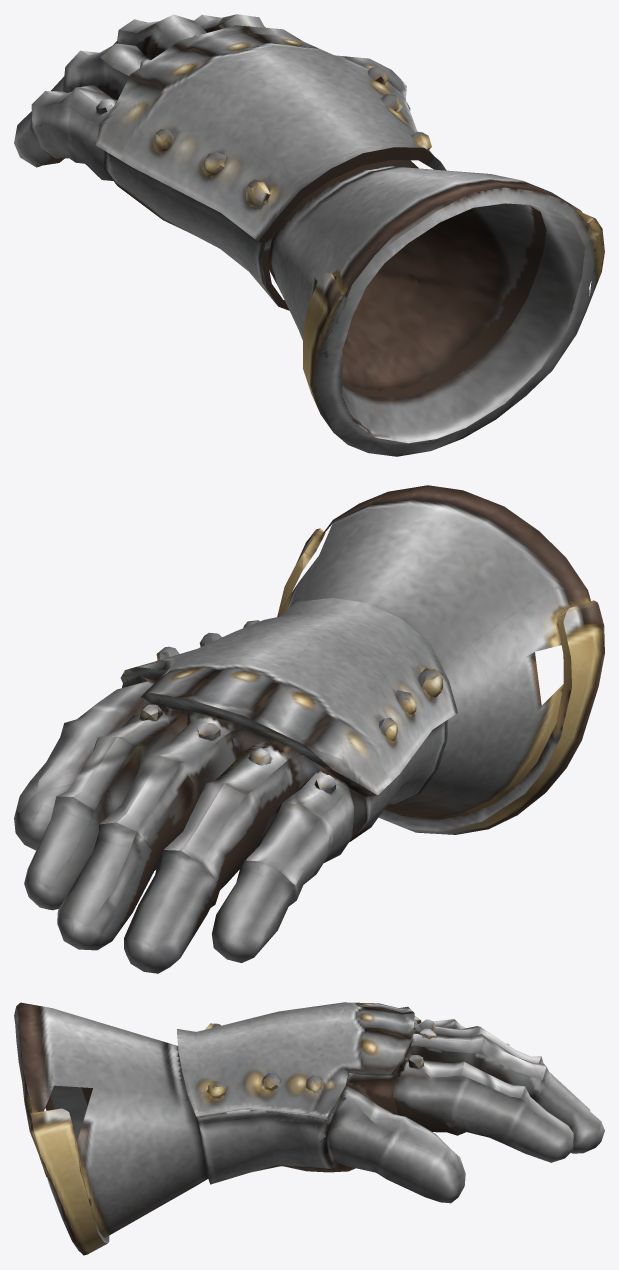
The model's file is item_mm9_10138.glb.
The picture shows the model from 3 angles, top to bottom: view 1: azimuth 30°, elevation 25°; view 2: azimuth 150°, elevation 25°; view 3: azimuth 270°, elevation 25°; orthographic projection. The views are drawn at different scales.
Visible parts, largest first — view 1: d10138; view 2: d10138; view 3: d10138.
Part boxes in pixels (left/top/right/bottom): d10138: left=14, top=14, right=604, bottom=456; d10138: left=14, top=485, right=604, bottom=973; d10138: left=14, top=1002, right=604, bottom=1255.
Bounding box in the file's own units: 0.4844 × 0.4497 × 1.05.
Materials: 1 (1 with a texture image).
